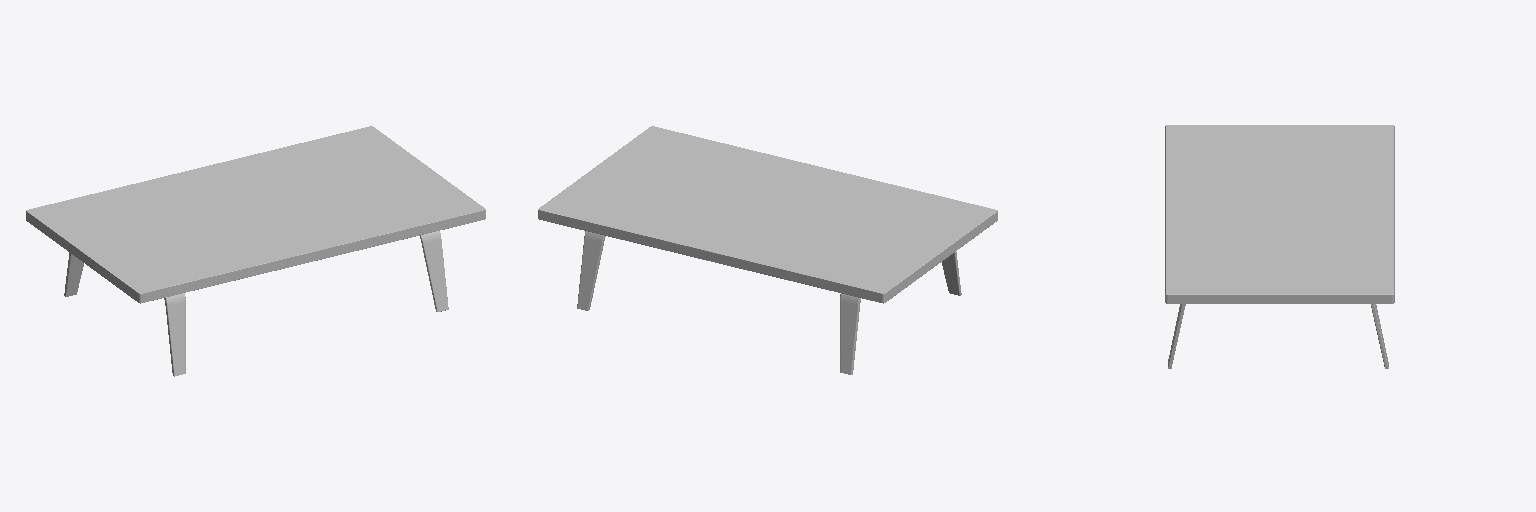
Rendered from table.obj.
3 views of the same model, side by side, from view 1: azimuth 30°, elevation 25°; view 2: azimuth 150°, elevation 25°; view 3: azimuth 270°, elevation 25° (orthographic).
Bounding box in the file's own units: 1.08 × 0.2754 × 0.6196.